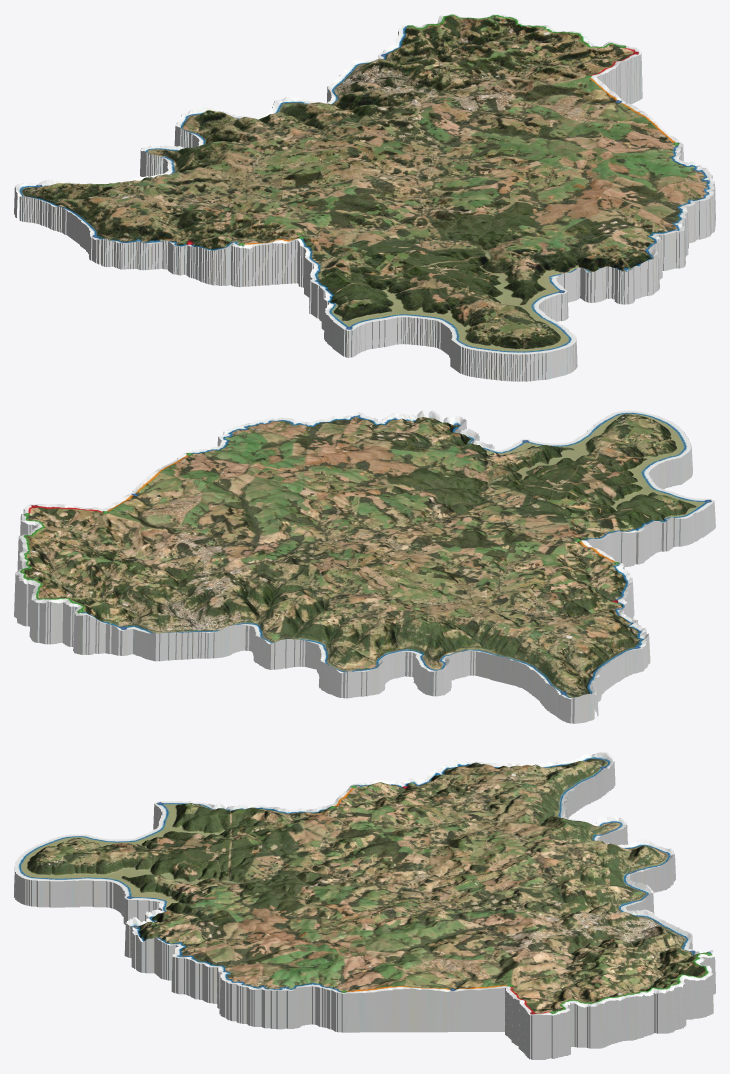
3 renders of one model, top to bottom at view 1: azimuth 30°, elevation 25°; view 2: azimuth 150°, elevation 25°; view 3: azimuth 270°, elevation 25°, orthographic. The views are drawn at different scales.
Size of the model in its own units: 1 by 0.0756 by 1.05.
1 material, 1 textured.
